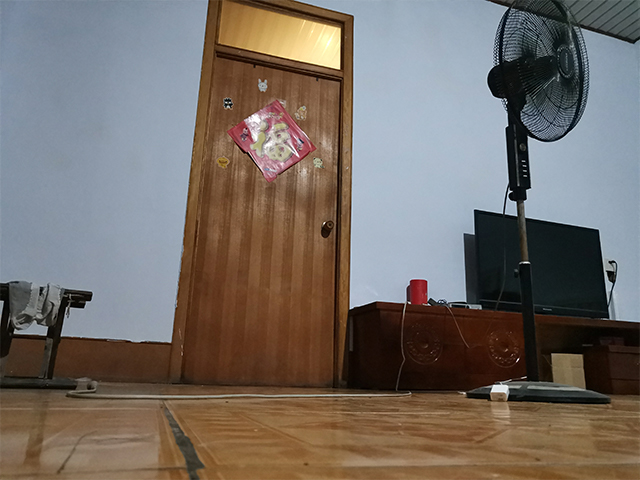cabinet: (344, 299, 640, 397)
stool: (1, 279, 100, 391)
wire: (64, 373, 422, 400)
